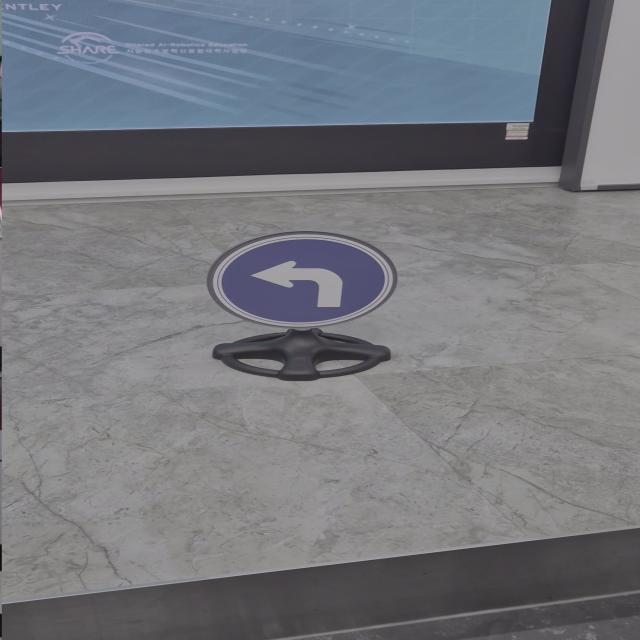left_direction: (182, 220, 419, 338)
